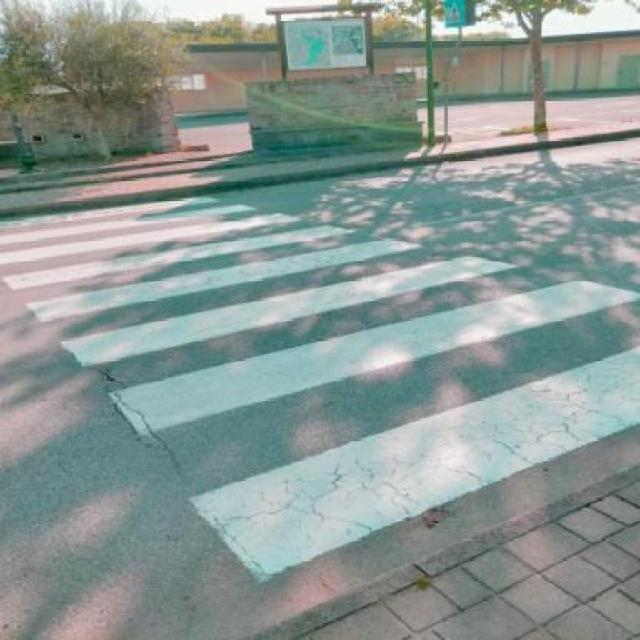crosswalk: (1, 195, 640, 586)
